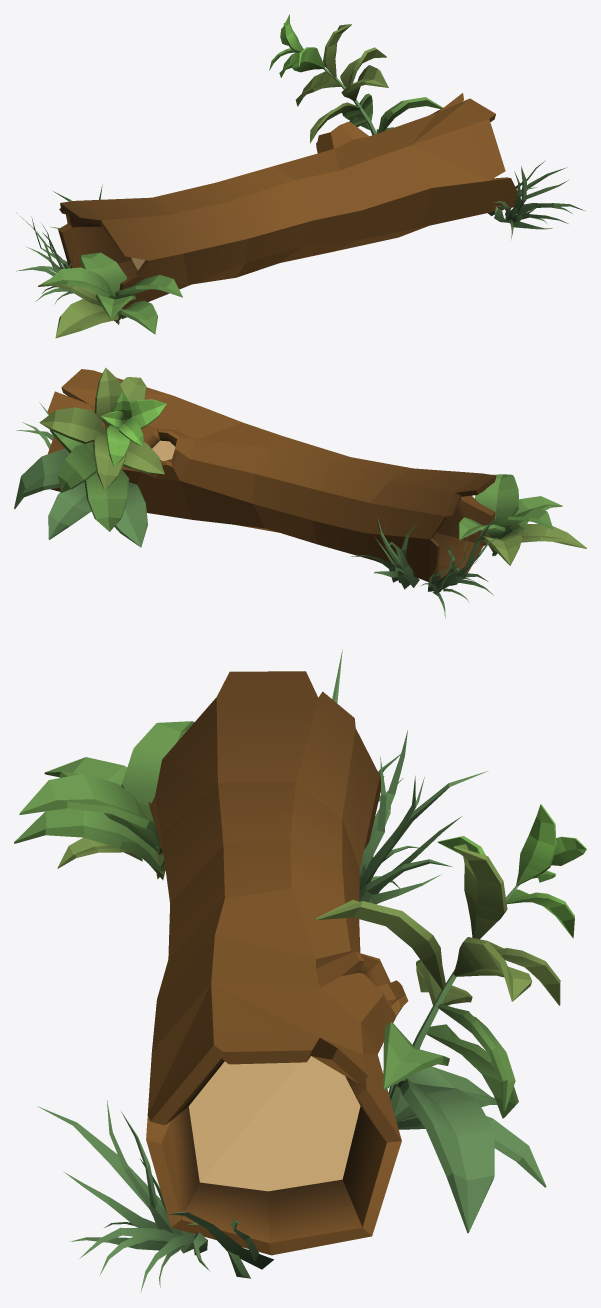
Rendered from TreeLog_A-01.FBX.
The picture shows the model from 3 angles, top to bottom: view 1: azimuth 30°, elevation 25°; view 2: azimuth 150°, elevation 25°; view 3: azimuth 270°, elevation 25°; orthographic projection. The views are drawn at different scales.
Visible parts, largest first — view 1: TreeLog_A-01; view 2: TreeLog_A-01; view 3: TreeLog_A-01.
Boxes of the visible parts, <box> form: TreeLog_A-01: <box>16,14,584,338</box>; TreeLog_A-01: <box>14,367,586,618</box>; TreeLog_A-01: <box>14,649,586,1291</box>.
Bounding box in the file's own units: 397 × 129 × 190.
Materials: 1 (1 with a texture image).
